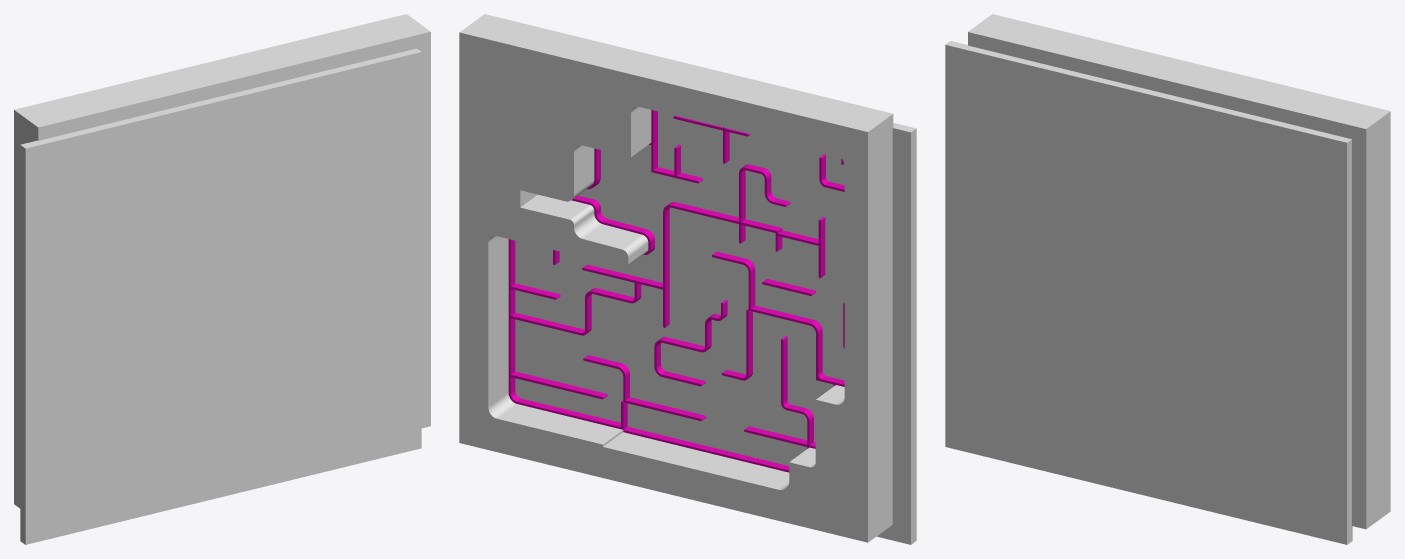
File: laberinto.fbx
3 views of the same model, side by side, from view 1: azimuth 30°, elevation 25°; view 2: azimuth 150°, elevation 25°; view 3: azimuth 330°, elevation 25° (orthographic). The views are drawn at different scales.
Visible parts, largest first — view 1: Cube, NivL3; view 2: NivL3, Cube, NivL; view 3: Cube, NivL3.
Part boxes in pixels (x1,y1,x2,y2): Cube: (20,48,421,544); NivL3: (14,14,430,508); NivL3: (459,14,893,542); Cube: (515,111,916,544); NivL: (508,110,844,472); Cube: (945,41,1352,544); NivL3: (968,14,1390,529).
Bounding box in the file's own units: 97.74 × 11.97 × 93.31.
